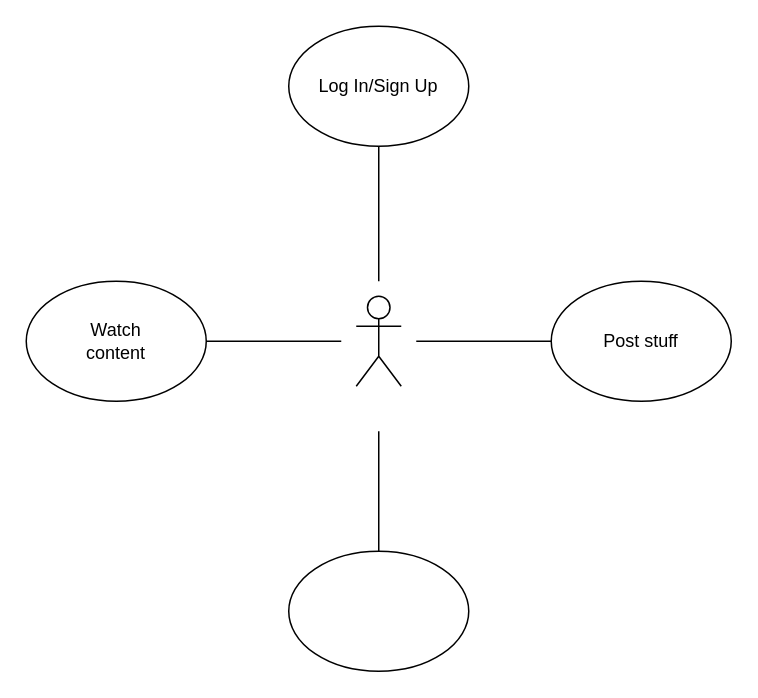
This 758x698 diagram has some shape labels left out. The shapes that lost their labels are listed below. From the top down, each one's centre as x and y in pixels, then its label:
At (378,340): "User".
At (378,610): "Log out".
